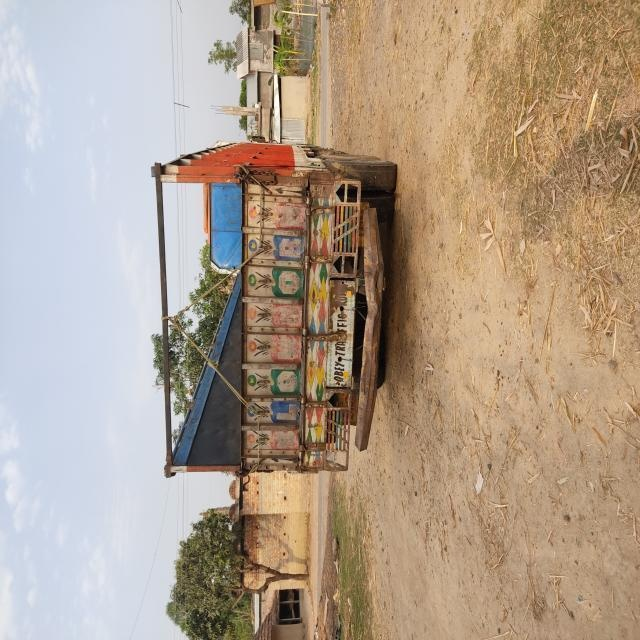Truck: (120, 203, 378, 530)
